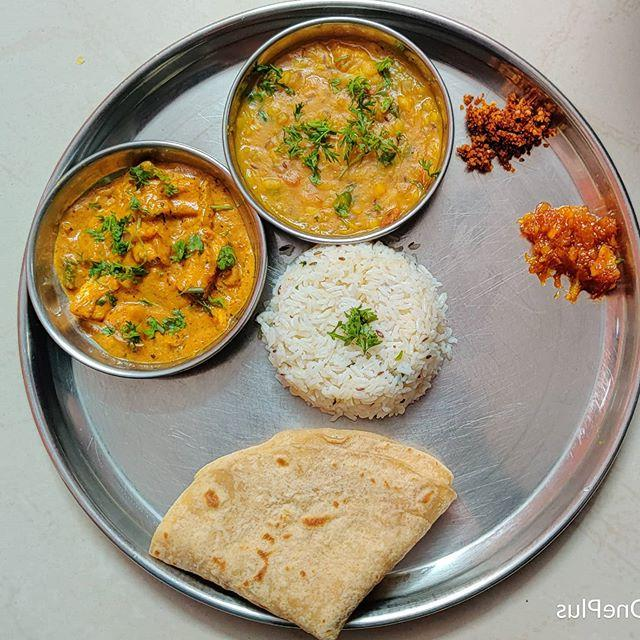Roti: (142, 432, 457, 627)
White Rice: (261, 240, 448, 420)
